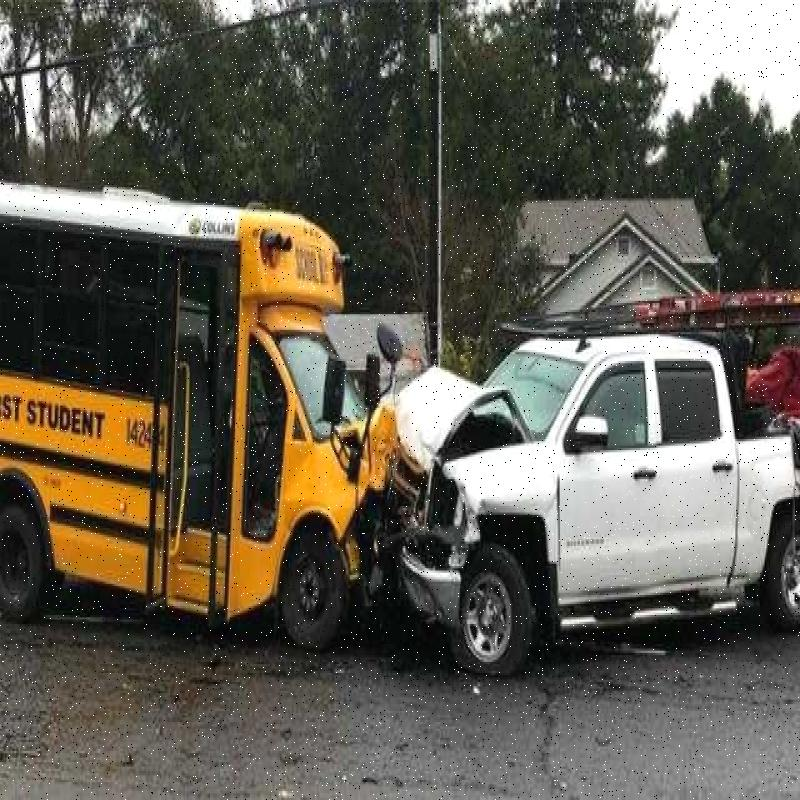bus: (4, 153, 393, 702)
